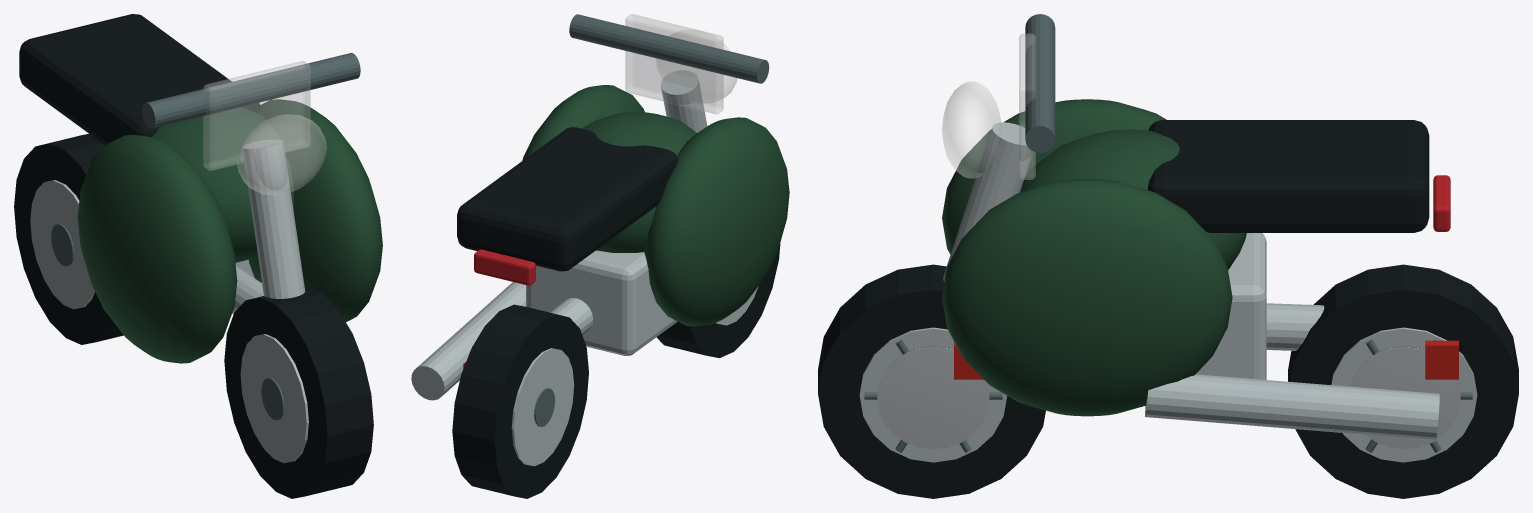
File: hiperreal.glb
3 renders of one model, left to right at view 1: azimuth 30°, elevation 25°; view 2: azimuth 150°, elevation 25°; view 3: azimuth 270°, elevation 25°, orthographic. The views are drawn at different scales.
Parts seen in each view (by area): view 1: Sport fairing, Tyre.001, Saddle, Sport fairing.001, Windshield, Fuel tank, Tyre, Fork, Handlebar, Rim.001, Headlight, Rim (+3 smaller); view 2: Sport fairing, Saddle, Tyre, Engine, Windshield, Handlebar, Rim, Fuel tank, Exhaust, Tyre.001, Sport fairing.001, Fork (+4 smaller); view 3: Sport fairing.001, Saddle, Tyre, Tyre.001, Exhaust, Hiperreal disco de freno, Fuel tank, Sport fairing, Engine, Rim.001, Rim, Hiperreal disco de freno.001 (+7 smaller).
Boxes of the visible parts, left/top/right/bottom form: Sport fairing: left=77, top=134, right=237, bottom=363; Tyre.001: left=224, top=286, right=373, bottom=498; Saddle: left=19, top=14, right=260, bottom=145; Sport fairing.001: left=248, top=99, right=382, bottom=321; Windshield: left=203, top=61, right=310, bottom=170; Fuel tank: left=152, top=107, right=293, bottom=262; Tyre: left=14, top=134, right=123, bottom=344; Fork: left=242, top=139, right=305, bottom=298; Handlebar: left=142, top=53, right=360, bottom=128; Rim.001: left=240, top=334, right=308, bottom=463; Headlight: left=237, top=114, right=326, bottom=194; Rim: left=30, top=180, right=94, bottom=309; Sport fairing: left=644, top=117, right=789, bottom=326; Saddle: left=457, top=127, right=677, bottom=271; Tyre: left=452, top=304, right=588, bottom=498; Engine: left=526, top=250, right=677, bottom=355; Windshield: left=625, top=14, right=723, bottom=113; Handlebar: left=569, top=14, right=769, bottom=83; Rim: left=511, top=348, right=574, bottom=466; Fuel tank: left=582, top=112, right=696, bottom=252; Exhaust: left=411, top=282, right=525, bottom=400; Tyre.001: left=656, top=243, right=780, bottom=358; Sport fairing.001: left=522, top=85, right=644, bottom=160; Fork: left=661, top=70, right=707, bottom=132; Sport fairing.001: left=942, top=178, right=1232, bottom=416; Saddle: left=1148, top=120, right=1429, bottom=232; Tyre: left=1288, top=264, right=1518, bottom=498; Tyre.001: left=818, top=264, right=1045, bottom=498; Exhaust: left=1145, top=374, right=1439, bottom=440; Hiperreal disco de freno: left=877, top=346, right=989, bottom=449; Fuel tank: left=1020, top=129, right=1246, bottom=269; Sport fairing: left=942, top=99, right=1166, bottom=254; Engine: left=1196, top=233, right=1266, bottom=379; Rim.001: left=859, top=327, right=1006, bottom=462; Rim: left=1331, top=327, right=1477, bottom=462; Hiperreal disco de freno.001: left=1350, top=346, right=1460, bottom=449.
Bounding box in the file's own units: 0.4114 × 0.6286 × 0.9371.
